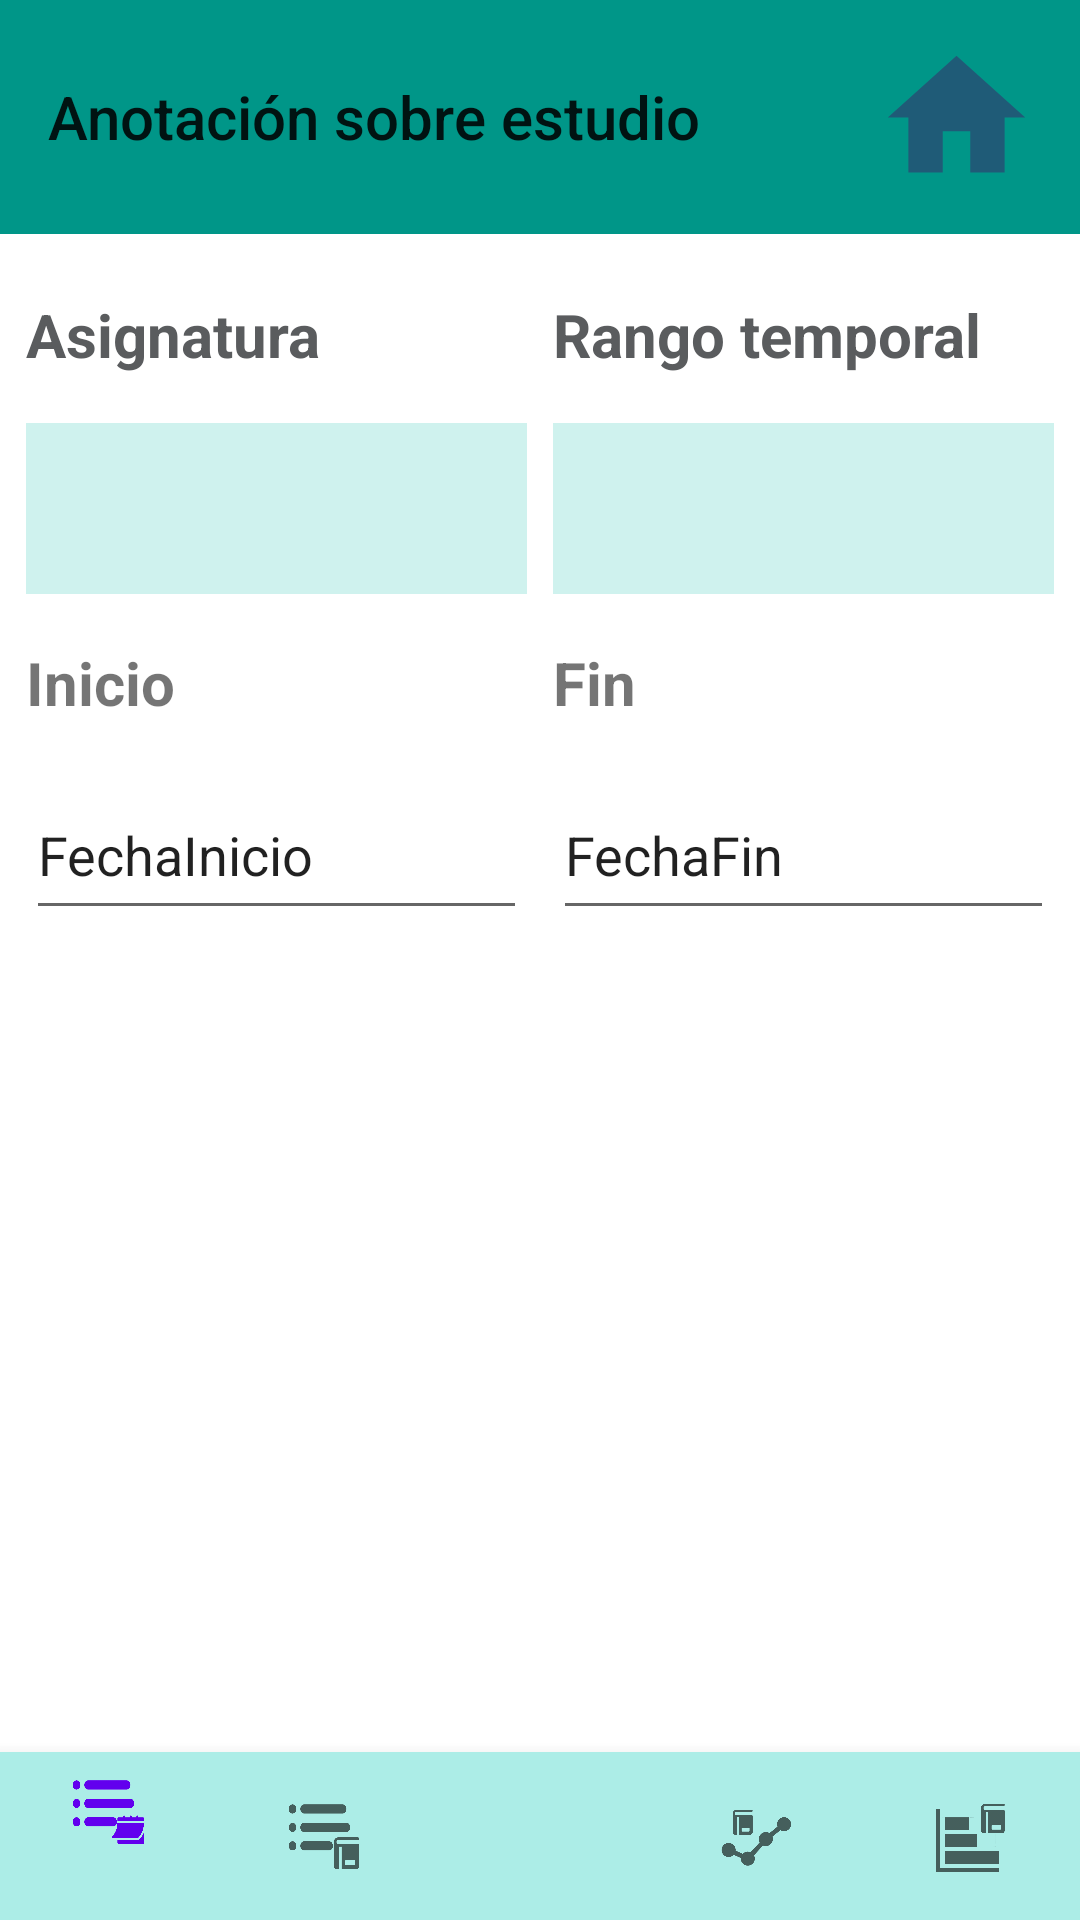

Named icons in this screenshot (1080 × 1920) and their centers, (x=x, y=y):
home: (x=956, y=114)
